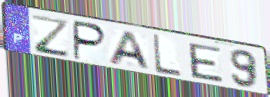9: (229, 49, 260, 90)
A: (106, 30, 153, 72)
E: (186, 42, 225, 85)
L: (151, 33, 183, 79)
P: (72, 19, 109, 63)
Z: (30, 13, 72, 60)
